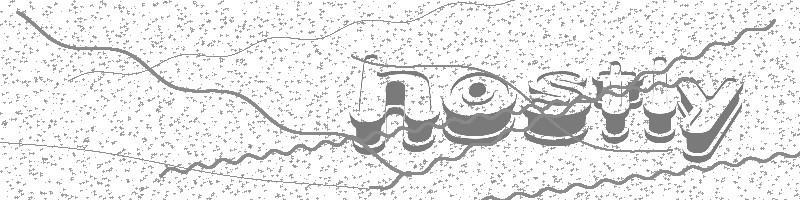h: (351, 51, 441, 150)
i: (641, 51, 676, 141)
o: (442, 65, 519, 144)
s: (522, 66, 593, 147)
t: (592, 60, 642, 145)
y: (673, 75, 745, 162)
